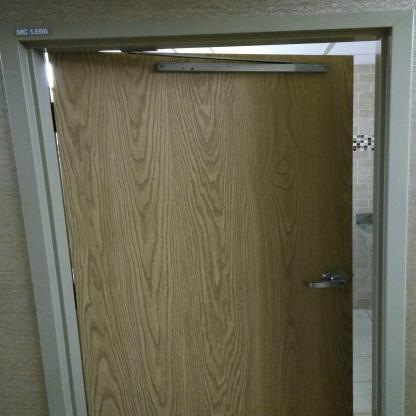door: (74, 46, 356, 415)
lever: (302, 278, 346, 292)
